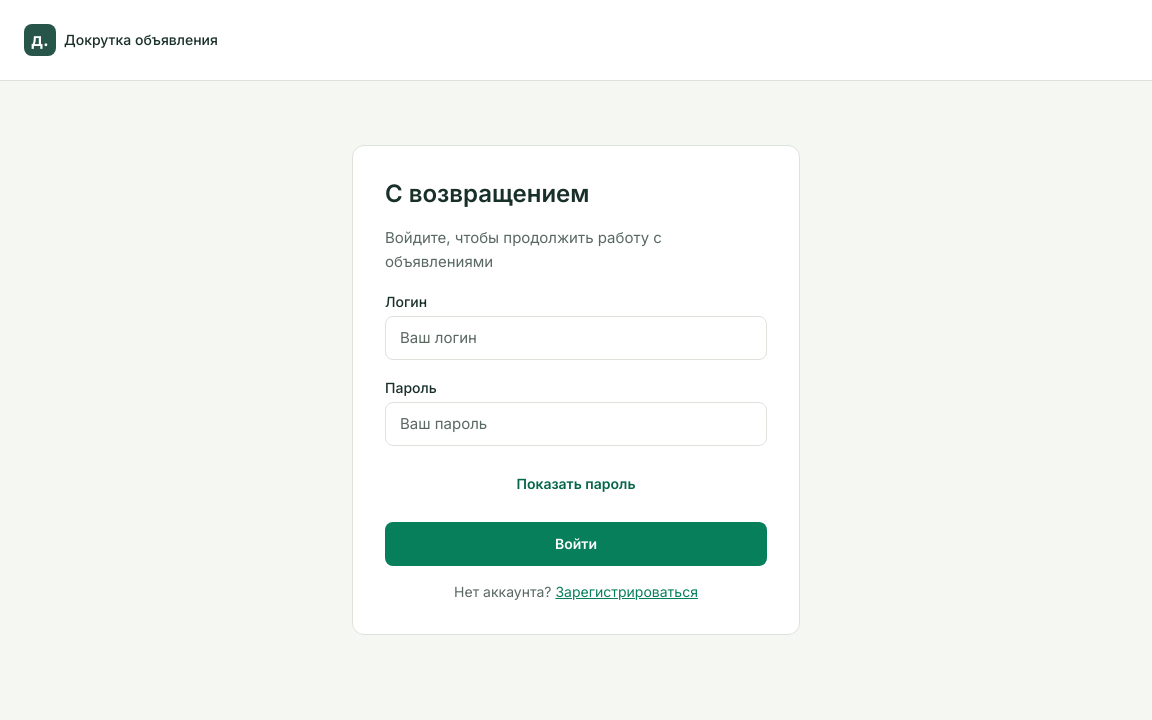
it: ошибка 401 понятна и не раскрывает диагностику
Expected: the heading "С возвращением" is shown, [385, 179, 589, 208]
Type "a" into the field labelled "Логин" at point(576, 338), box [385, 316, 767, 360]
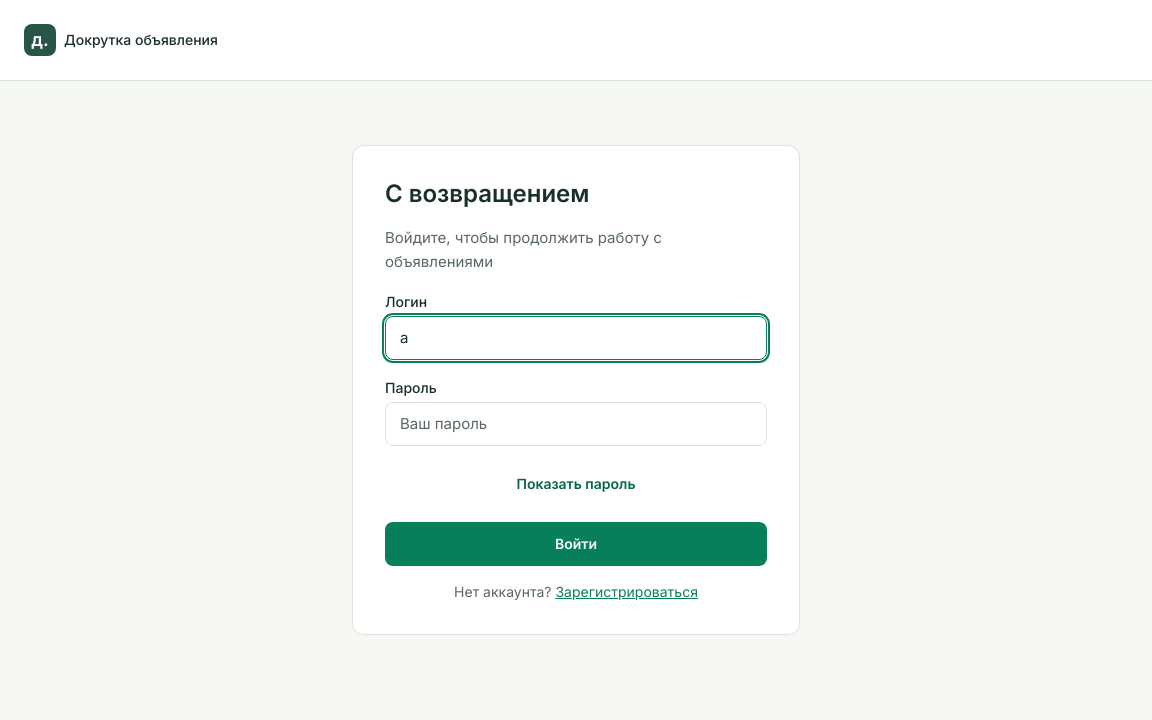
Type "x" into the password field labelled "Пароль" at point(576, 424), box [385, 402, 767, 446]
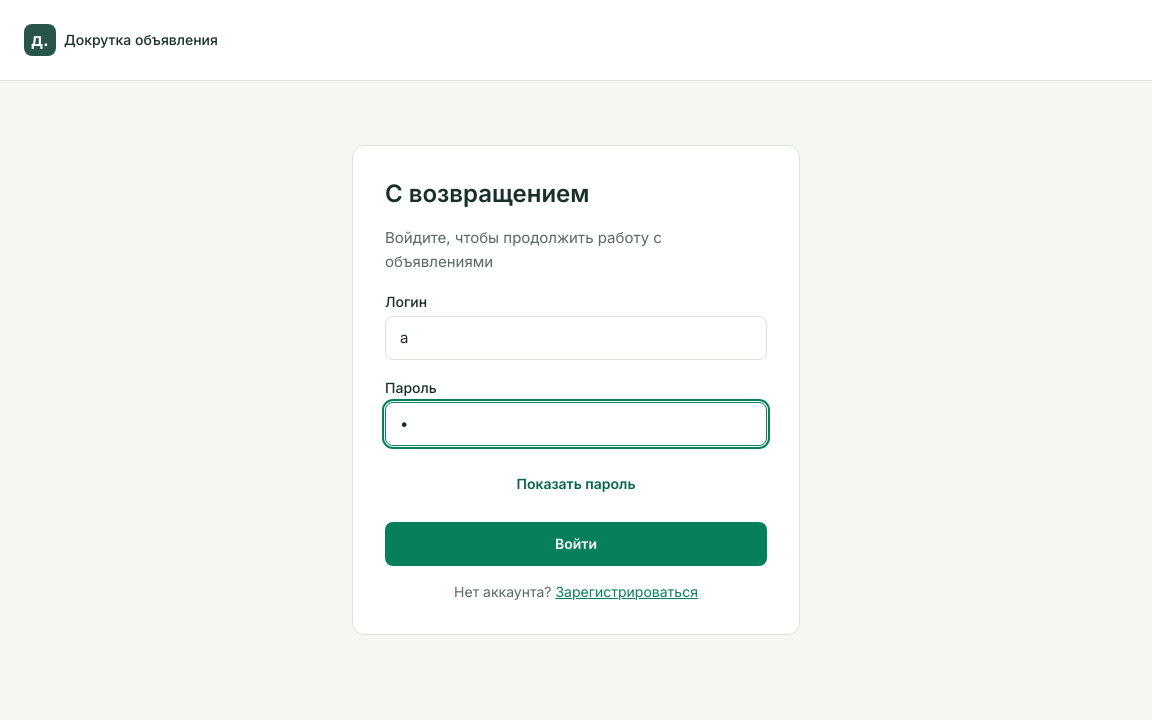
Click the button "Войти" at point(576, 544), box [385, 522, 767, 566]
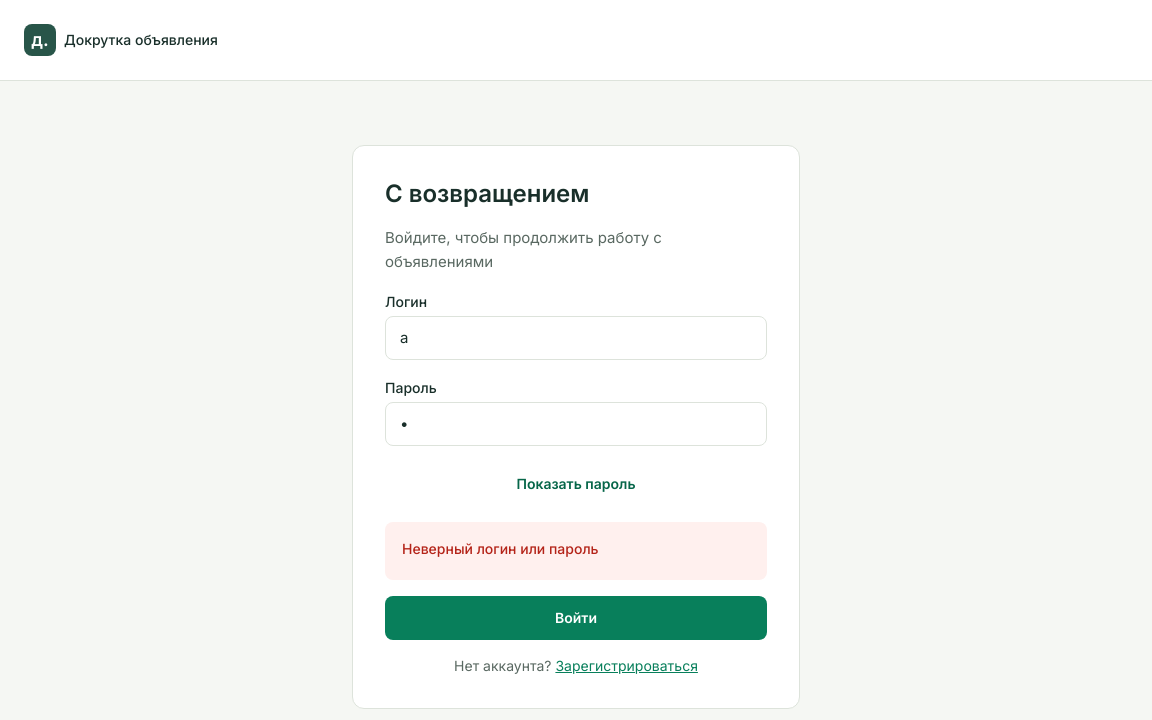
Expected: the button "Войти" is enabled, [385, 596, 767, 640]
Now the message reads "Неверный логин или пароль", box [402, 540, 598, 557]
